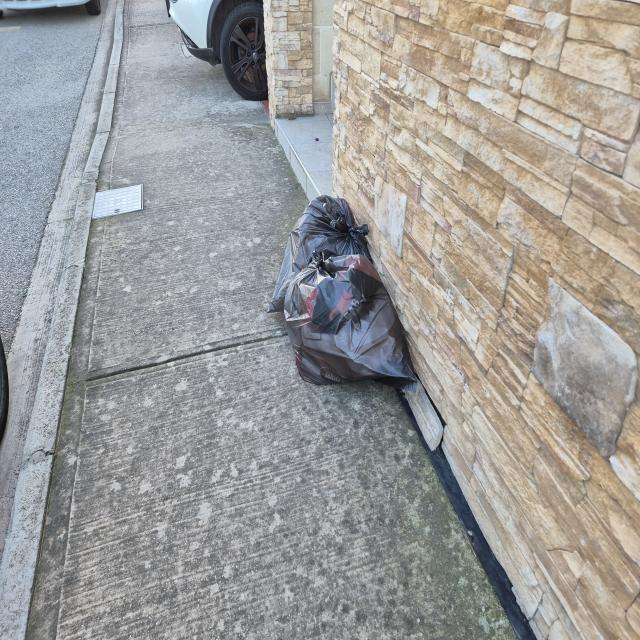black_bag: (291, 262, 419, 390), (266, 192, 381, 304)
